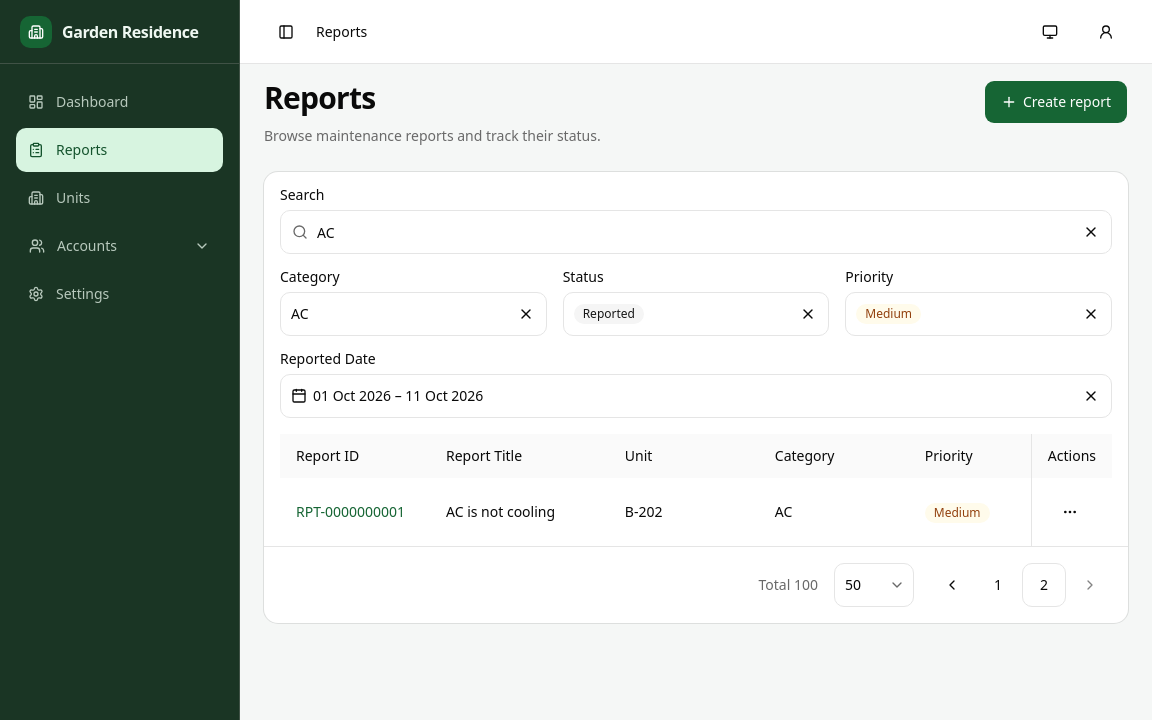
Test: preserves filters and pagination from either list presentation through the breadcrumb
Step 1. Click the button named "Actions for RPT-0000000001" → coordinates (1070, 512), box [1048,490,1092,534]
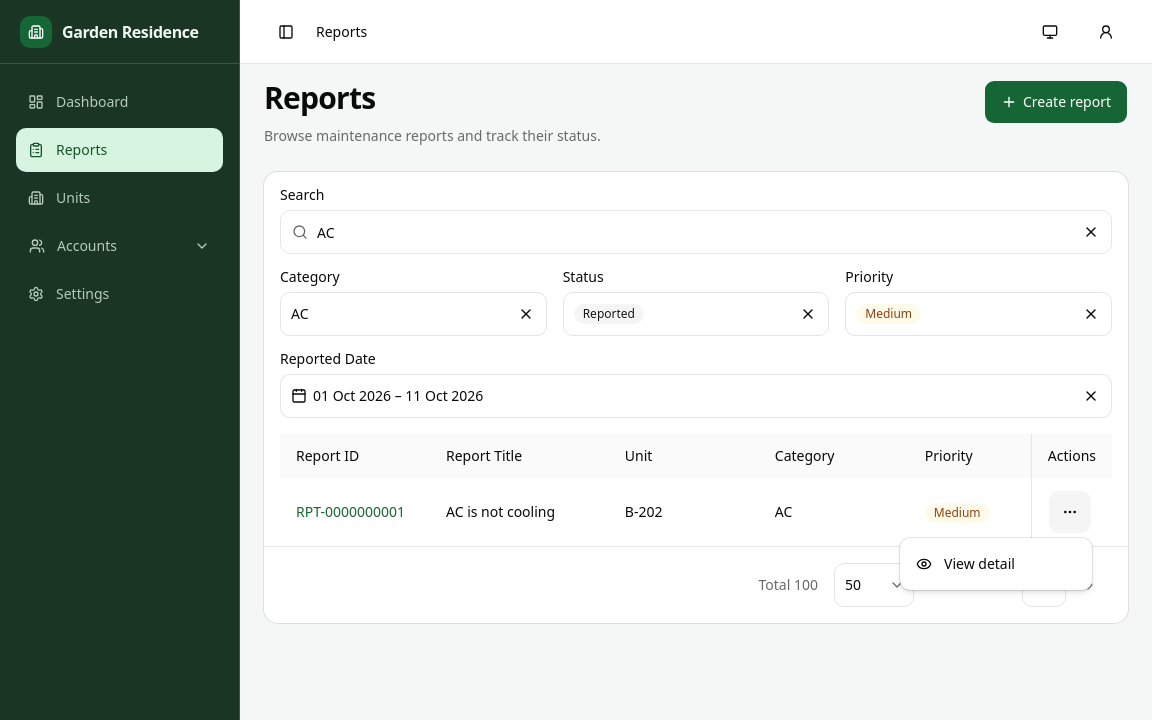
Step 2. Click the menu item "View detail" → coordinates (965, 564), box [916,554,1015,573]
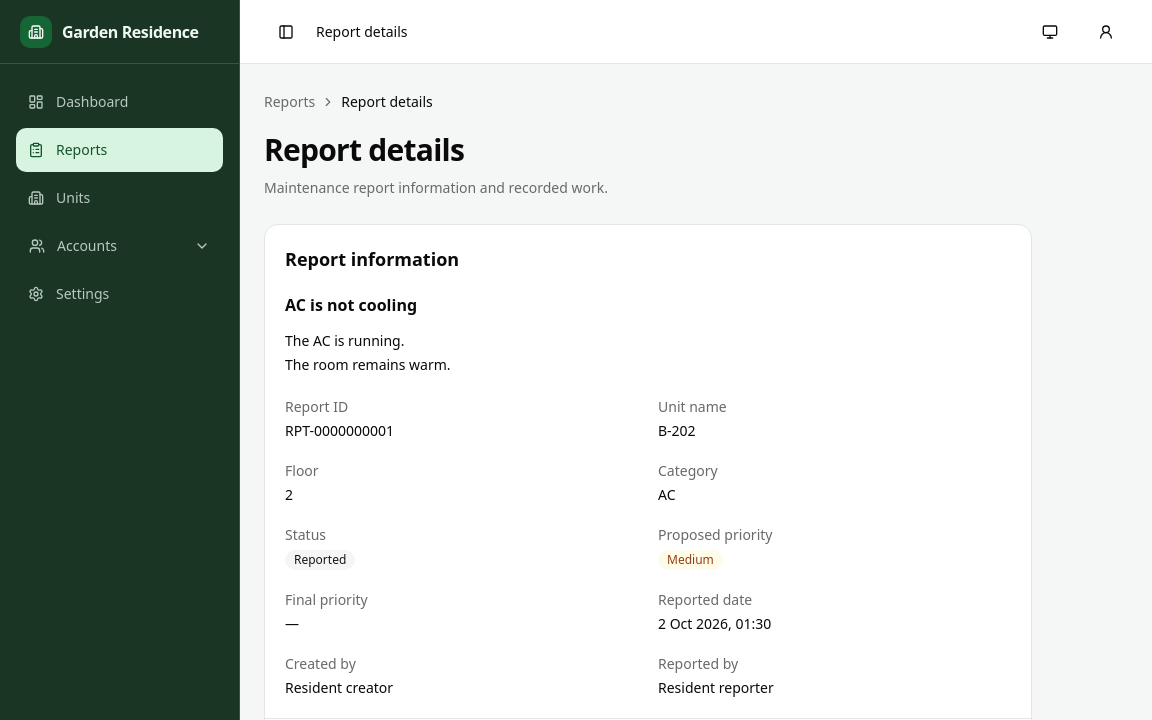
Step 3. Click the 1st link "Reports" → coordinates (290, 102), box [264,92,315,111]
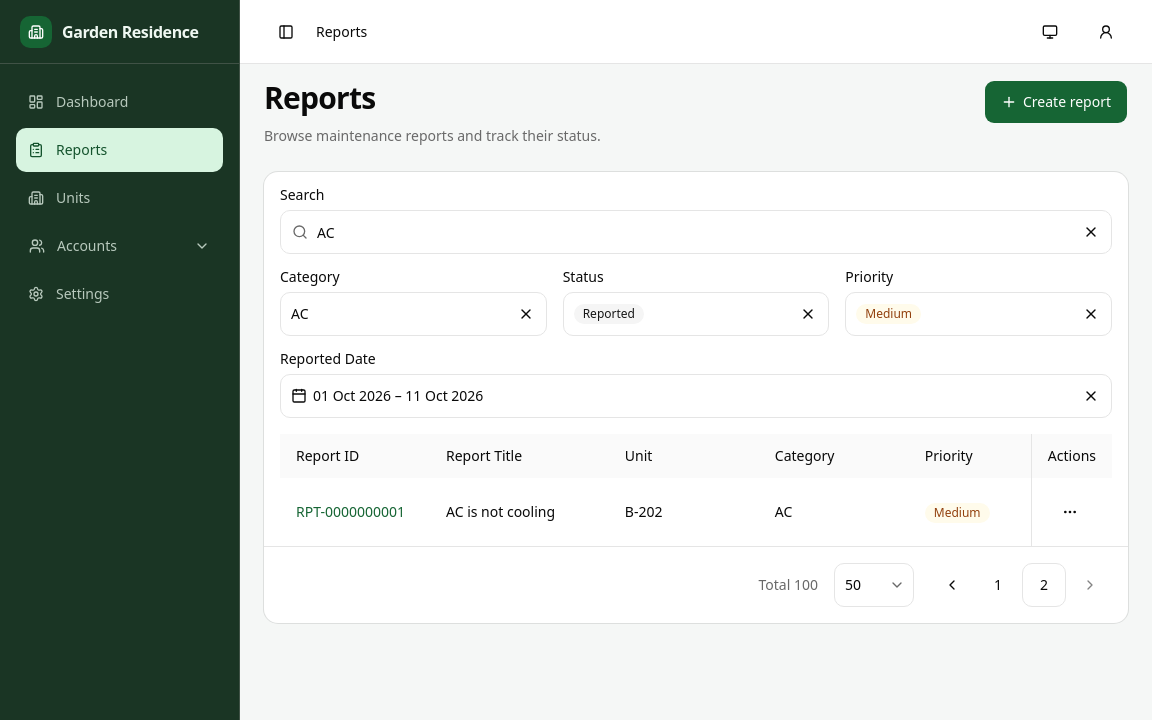
Check: the table named "Reports" is shown, box [280,434,1112,546]
